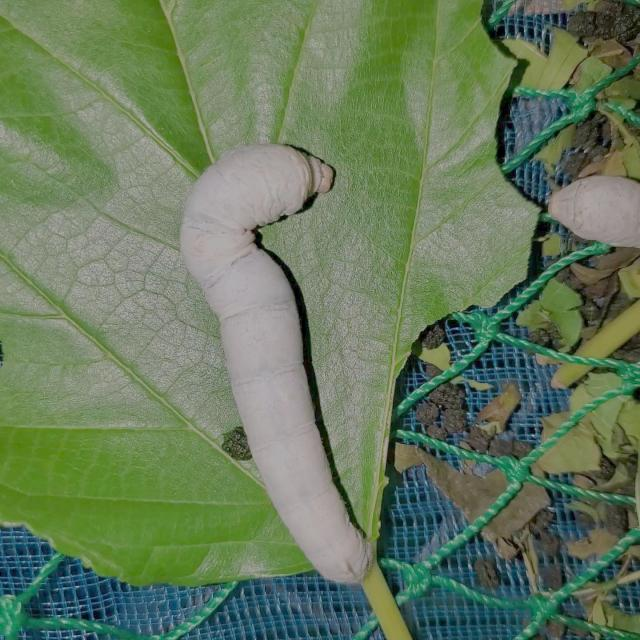Healthy: (172, 130, 388, 591)
